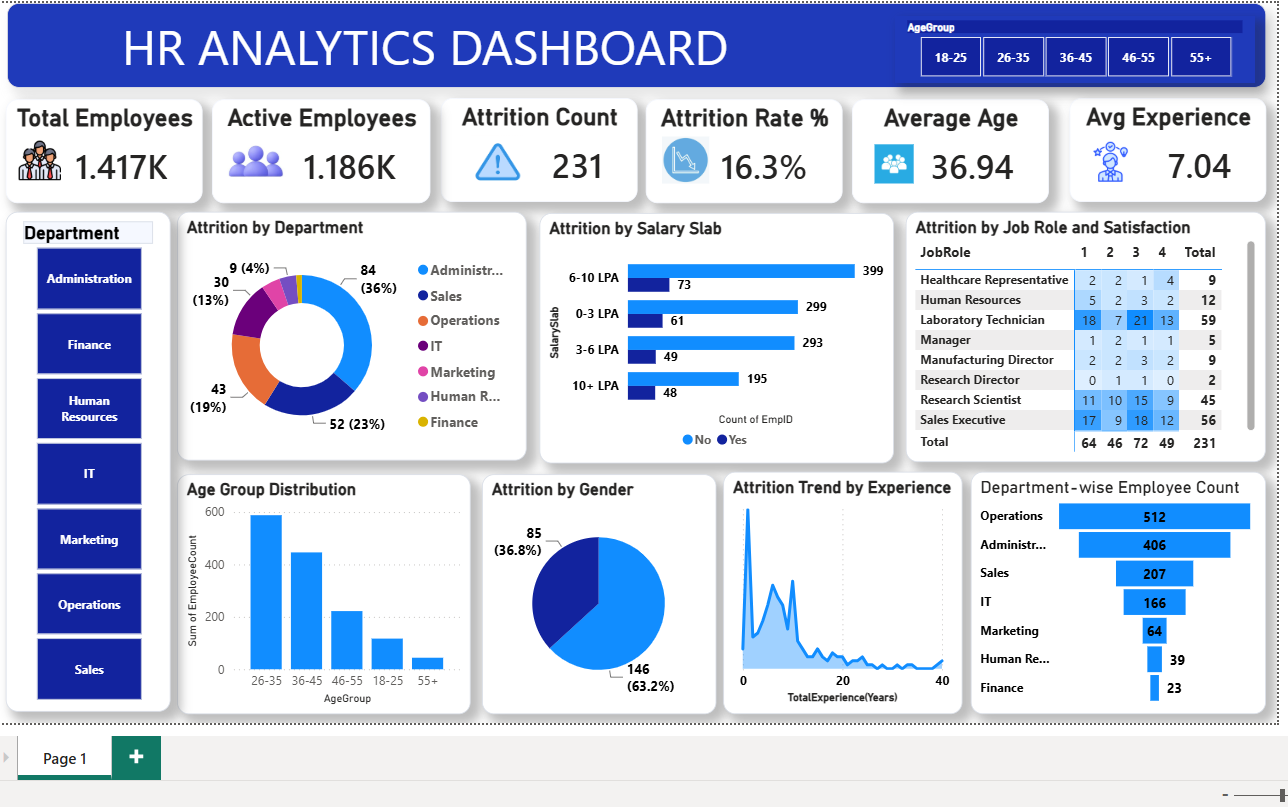

This screenshot's page, from the dashboard's own definition file:
{"tool":"powerbi","page":{"name":"Page 1","canvas":[1280,720],"ordinal":0},"visuals":[{"type":"textbox","box":[10,0,1259,85],"z":0},{"type":"cardVisual","title":"Total Employees","fields":{"Data":["CountNonNull(HR_Analytics.EmpID)"]},"box":[9.3,95.9,196.9,104.1],"z":1000},{"type":"cardVisual","title":"Attrition Count","fields":{"Data":["Sum(HR_Analytics.AttritionCount)"]},"box":[443.3,94.8,196.9,104.1],"z":2000},{"type":"cardVisual","title":"Avg Experience","fields":{"Data":["Avg(HR_Analytics.YearsatCompany)"]},"box":[1072.2,94.8,196.9,104.1],"z":3000},{"type":"cardVisual","title":"Attrition Rate %","fields":{"Data":["HR_Analytics.Attrition Rate %"]},"box":[648.5,95.9,196.9,104.1],"z":4000},{"type":"cardVisual","title":"Average Age","fields":{"Data":["Avg(HR_Analytics.Age)"]},"box":[854.6,95.9,196.9,104.1],"z":5000},{"type":"cardVisual","title":"Active Employees","fields":{"Data":["CountNonNull(HR_Analytics.EmployeeCount)"]},"box":[214.4,95.9,218.6,104.1],"z":6000},{"type":"image","box":[877.3,132,39.2,56.7],"z":7000},{"type":"image","box":[1091.8,139.2,44.3,40.2],"z":8000},{"type":"image","box":[664.9,126.8,47.4,61.9],"z":9000},{"type":"image","box":[0,135.7,85.6,42.8],"z":10000},{"type":"image","box":[221.6,115.5,75.3,81.4],"z":11000},{"type":"image","box":[461.9,132,79.4,51.5],"z":12000},{"type":"donutChart","title":"Attrition by Department","fields":{"Category":["HR_Analytics.Department"],"Y":["Sum(HR_Analytics.AttritionCount)"]},"box":[179.4,209.3,349.5,248.5],"z":13000},{"type":"clusteredBarChart","title":"Attrition by Salary Slab","fields":{"Category":["HR_Analytics.SalarySlab"],"Y":["CountNonNull(HR_Analytics.EmpID)"],"Series":["HR_Analytics.Attrition"]},"box":[542.3,210.3,354.6,250.5],"z":14000},{"type":"pivotTable","title":"Attrition by Job Role and Satisfaction","fields":{"Rows":["HR_Analytics.JobRole"],"Values":["Sum(HR_Analytics.AttritionCount)"],"Columns":["HR_Analytics.JobSatisfaction"]},"box":[909.3,209.3,359.8,250.5],"z":15000},{"type":"columnChart","title":"Age Group Distribution","fields":{"Category":["HR_Analytics.AgeGroup"],"Y":["Sum(HR_Analytics.EmployeeCount)"]},"box":[179.4,471.1,293.8,240.2],"z":16000},{"type":"pieChart","title":"Attrition by Gender","fields":{"Category":["HR_Analytics.Gender"],"Y":["Sum(HR_Analytics.AttritionCount)"]},"box":[485.6,471.1,234,240.2],"z":17000},{"type":"areaChart","title":"Attrition Trend by Experience","fields":{"Category":["HR_Analytics.TotalExperience(Years)"],"Y2":["Sum(HR_Analytics.AttritionCount)"]},"box":[725.8,469.1,239.2,242.3],"z":18000},{"type":"funnel","title":"Department-wise Employee Count","fields":{"Category":["HR_Analytics.Department"],"Y":["CountNonNull(HR_Analytics.EmpID)"]},"box":[974.2,469.1,294.8,242.3],"z":19000},{"type":"slicer","fields":{"Values":["HR_Analytics.Department"]},"box":[9,209,165,500],"z":20000},{"type":"slicer","fields":{"Values":["HR_Analytics.AgeGroup"]},"box":[898,12,361,68],"z":21000}]}

Visuals, with their boxes on the page's 1280x720 design canvas (x1, y1, x2, y2). These are canvas units, not pixel positions in the 1288x807 screenshot, which may show the page scaled, cropped or inside an application window:
textbox: <bbox>10, 0, 1269, 85</bbox>
"Total Employees" cardVisual: <bbox>9, 96, 206, 200</bbox>
"Attrition Count" cardVisual: <bbox>443, 95, 640, 199</bbox>
"Avg Experience" cardVisual: <bbox>1072, 95, 1269, 199</bbox>
"Attrition Rate %" cardVisual: <bbox>648, 96, 845, 200</bbox>
"Average Age" cardVisual: <bbox>855, 96, 1052, 200</bbox>
"Active Employees" cardVisual: <bbox>214, 96, 433, 200</bbox>
image: <bbox>877, 132, 916, 189</bbox>
image: <bbox>1092, 139, 1136, 179</bbox>
image: <bbox>665, 127, 712, 189</bbox>
image: <bbox>0, 136, 86, 178</bbox>
image: <bbox>222, 116, 297, 197</bbox>
image: <bbox>462, 132, 541, 184</bbox>
"Attrition by Department" donutChart: <bbox>179, 209, 529, 458</bbox>
"Attrition by Salary Slab" clusteredBarChart: <bbox>542, 210, 897, 461</bbox>
"Attrition by Job Role and Satisfaction" pivotTable: <bbox>909, 209, 1269, 460</bbox>
"Age Group Distribution" columnChart: <bbox>179, 471, 473, 711</bbox>
"Attrition by Gender" pieChart: <bbox>486, 471, 720, 711</bbox>
"Attrition Trend by Experience" areaChart: <bbox>726, 469, 965, 711</bbox>
"Department-wise Employee Count" funnel: <bbox>974, 469, 1269, 711</bbox>
slicer - HR_Analytics.Department: <bbox>9, 209, 174, 709</bbox>
slicer - HR_Analytics.AgeGroup: <bbox>898, 12, 1259, 80</bbox>
